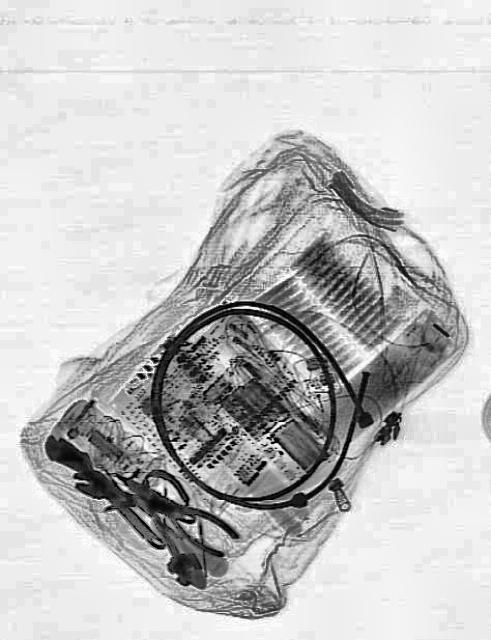Pliers: (108, 456, 240, 564)
Wrench: (38, 423, 172, 559), (68, 463, 196, 531)
